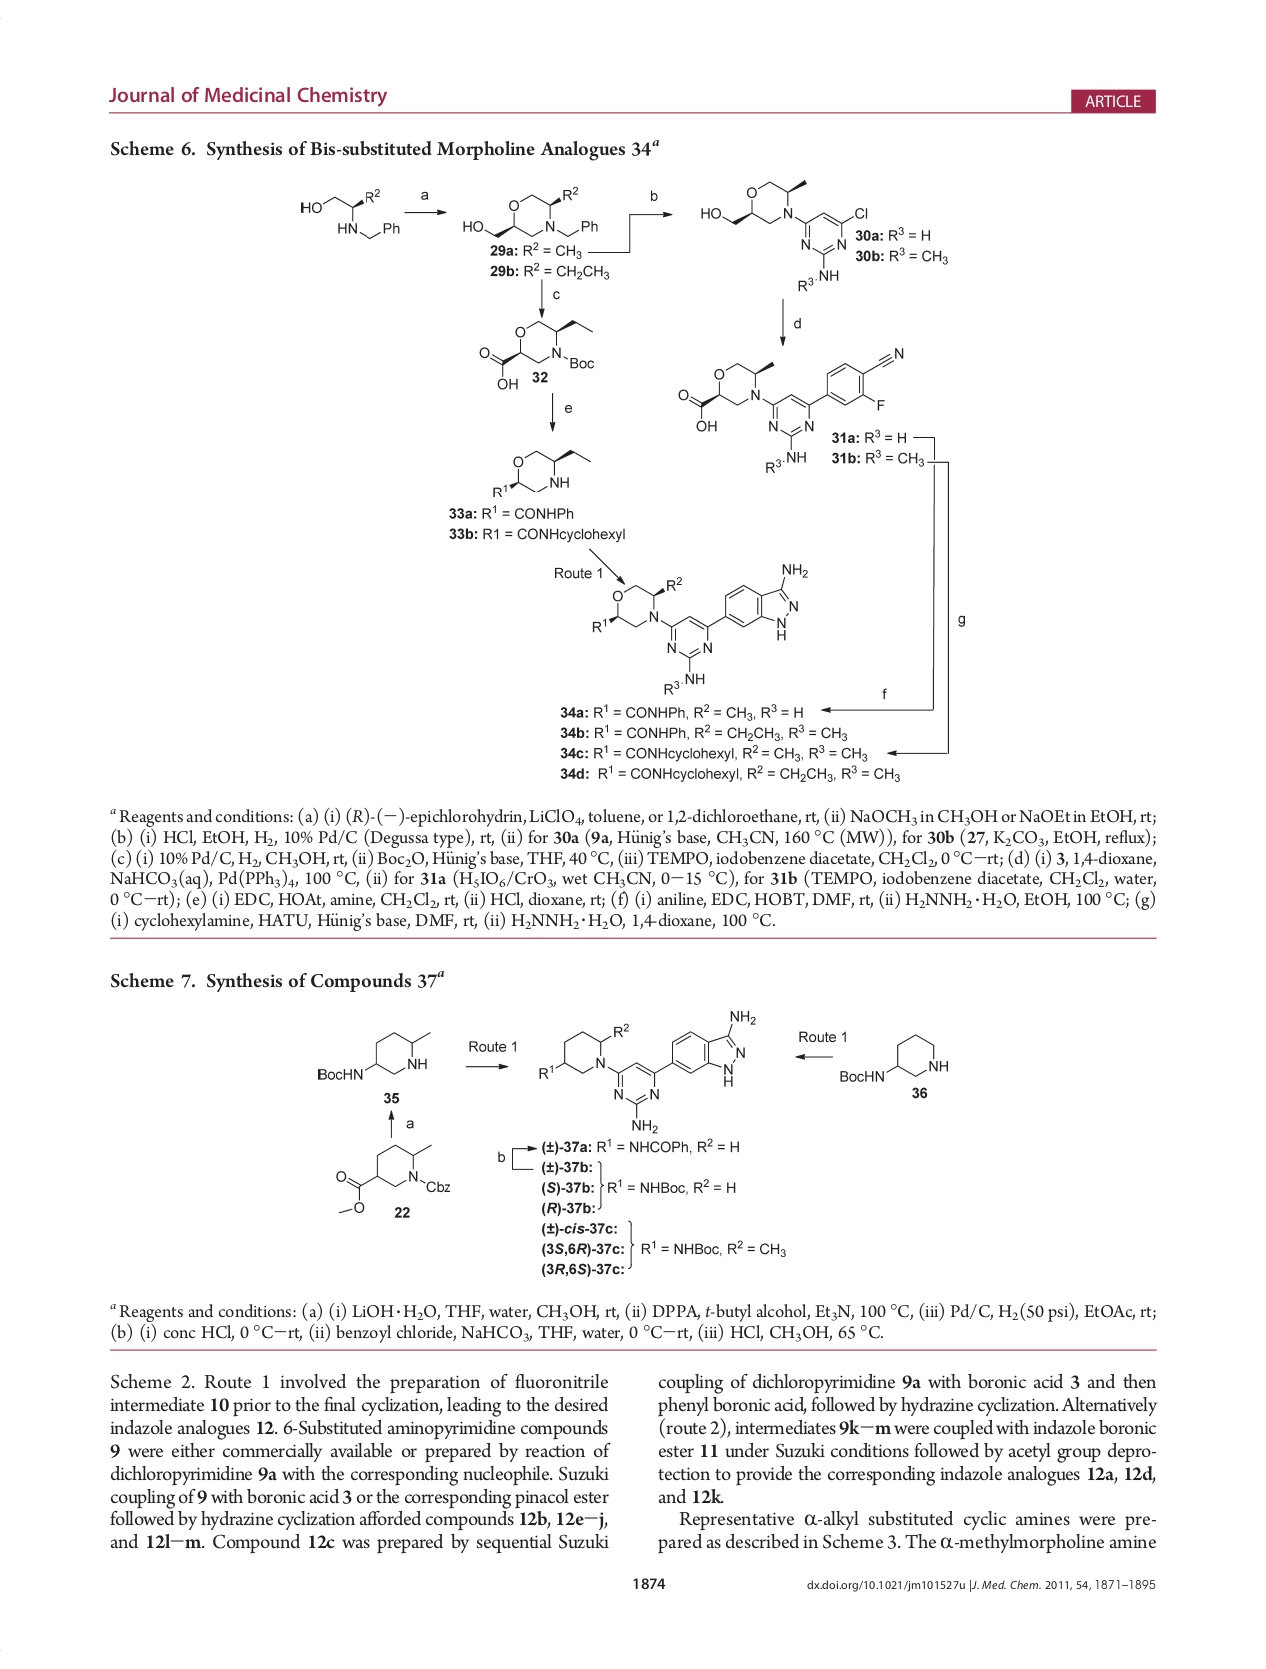exist_molecular: (585, 561, 811, 700), (676, 344, 904, 473), (537, 1007, 759, 1133), (694, 176, 870, 293), (328, 1142, 455, 1216), (480, 318, 597, 396), (456, 181, 601, 242), (313, 1017, 431, 1089), (293, 181, 404, 247), (832, 1031, 952, 1087), (488, 442, 594, 501)
